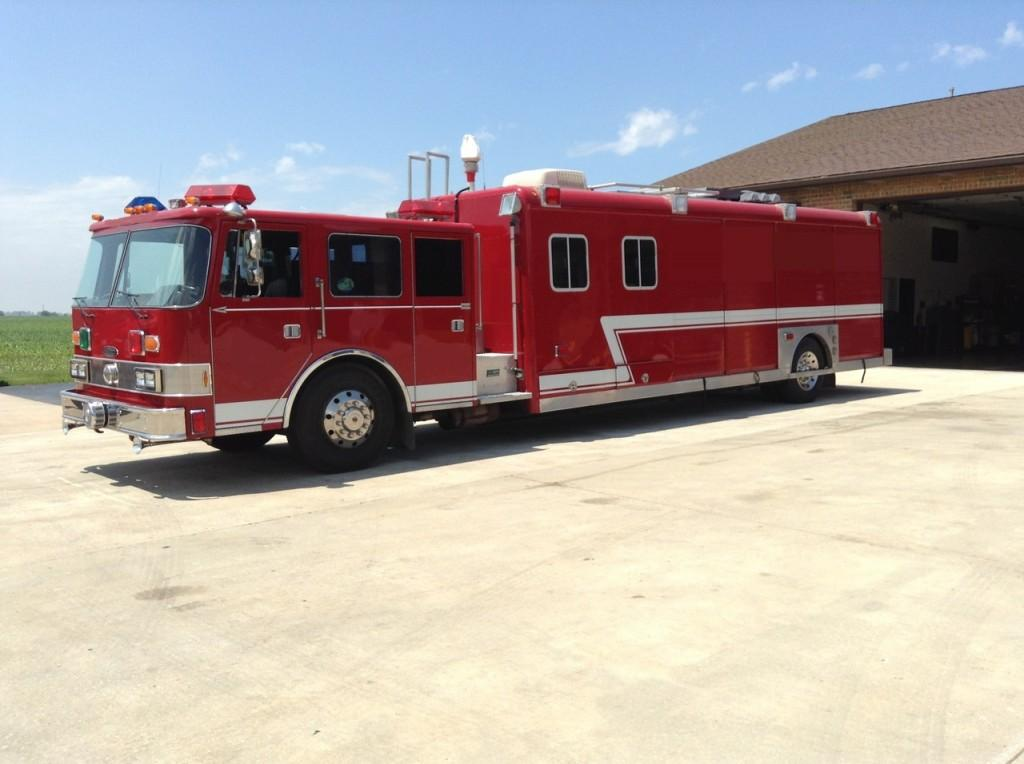Fire-engine: (59, 135, 892, 473)
